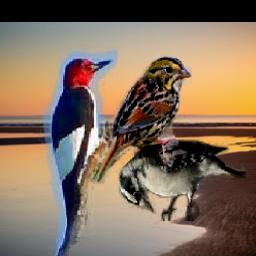Sparrow: (91, 55, 193, 184)
Woodpecker: (35, 43, 120, 256), (120, 139, 247, 221)
